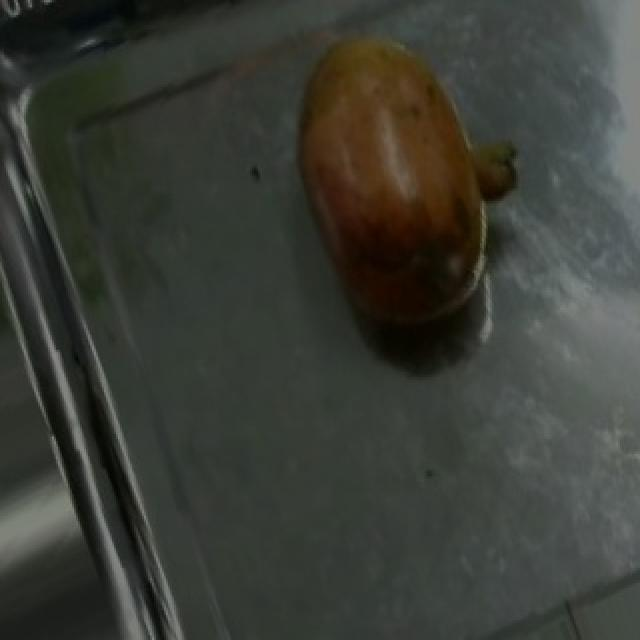fruit: (260, 37, 524, 357)
